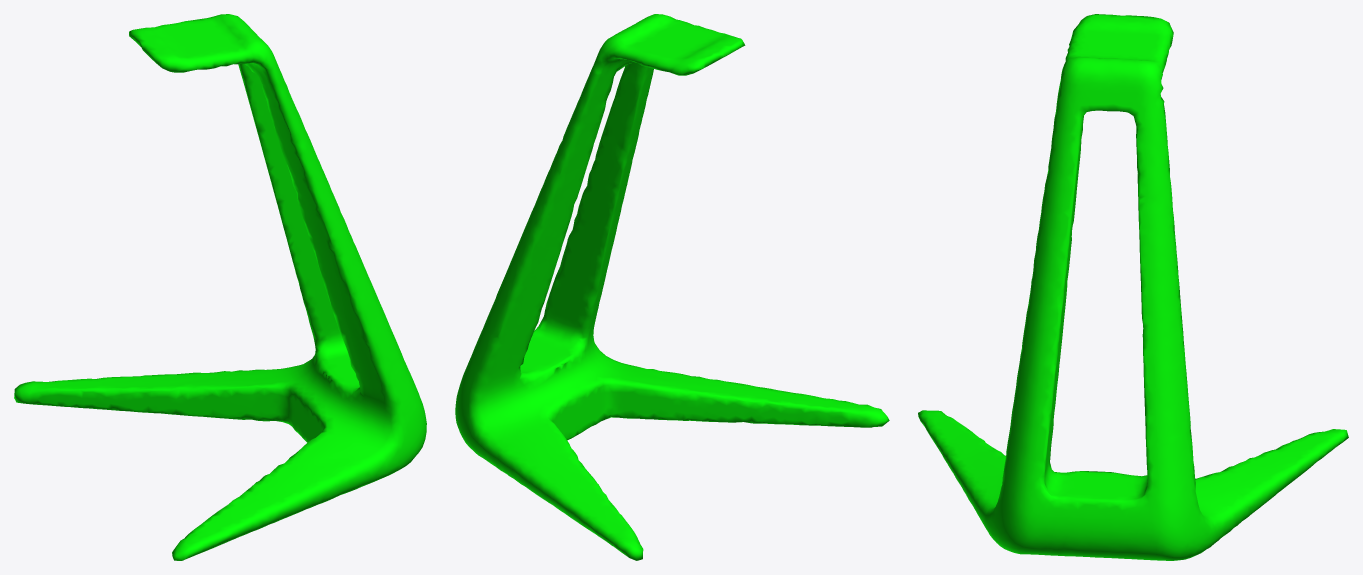
Rendered from phone_holder.obj.
3 views of the same model, side by side, from view 1: azimuth 30°, elevation 25°; view 2: azimuth 150°, elevation 25°; view 3: azimuth 270°, elevation 25° (orthographic). The views are drawn at different scales.
Bounding box in the file's own units: 163 × 211 × 189.
